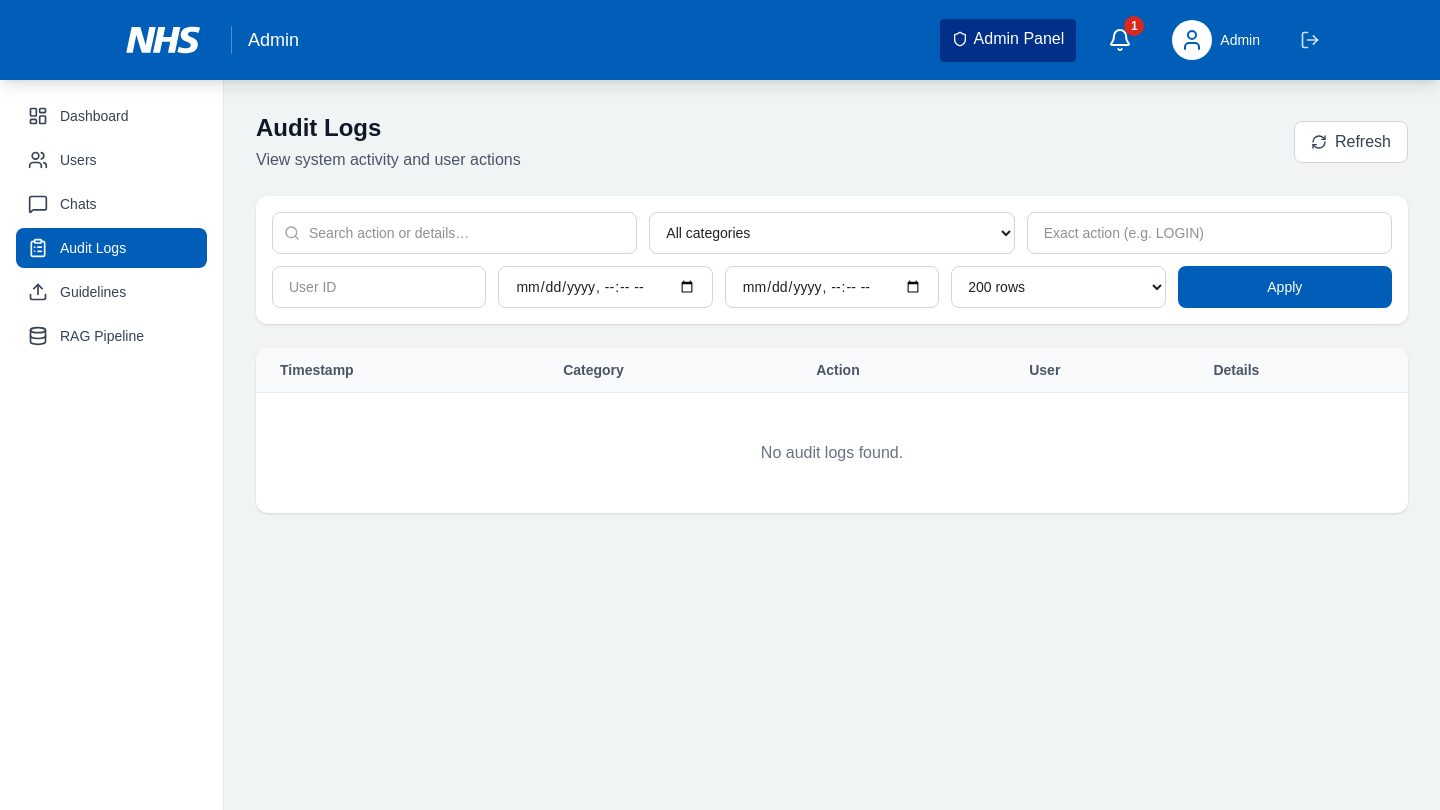
Scenario: AdminLogsPage › shows empty and error states
Check: the text "No audit logs found." is shown, box [256,392,1408,513]
Click the button "Refresh". click: (1351, 142)
box: [1294,121,1408,163]
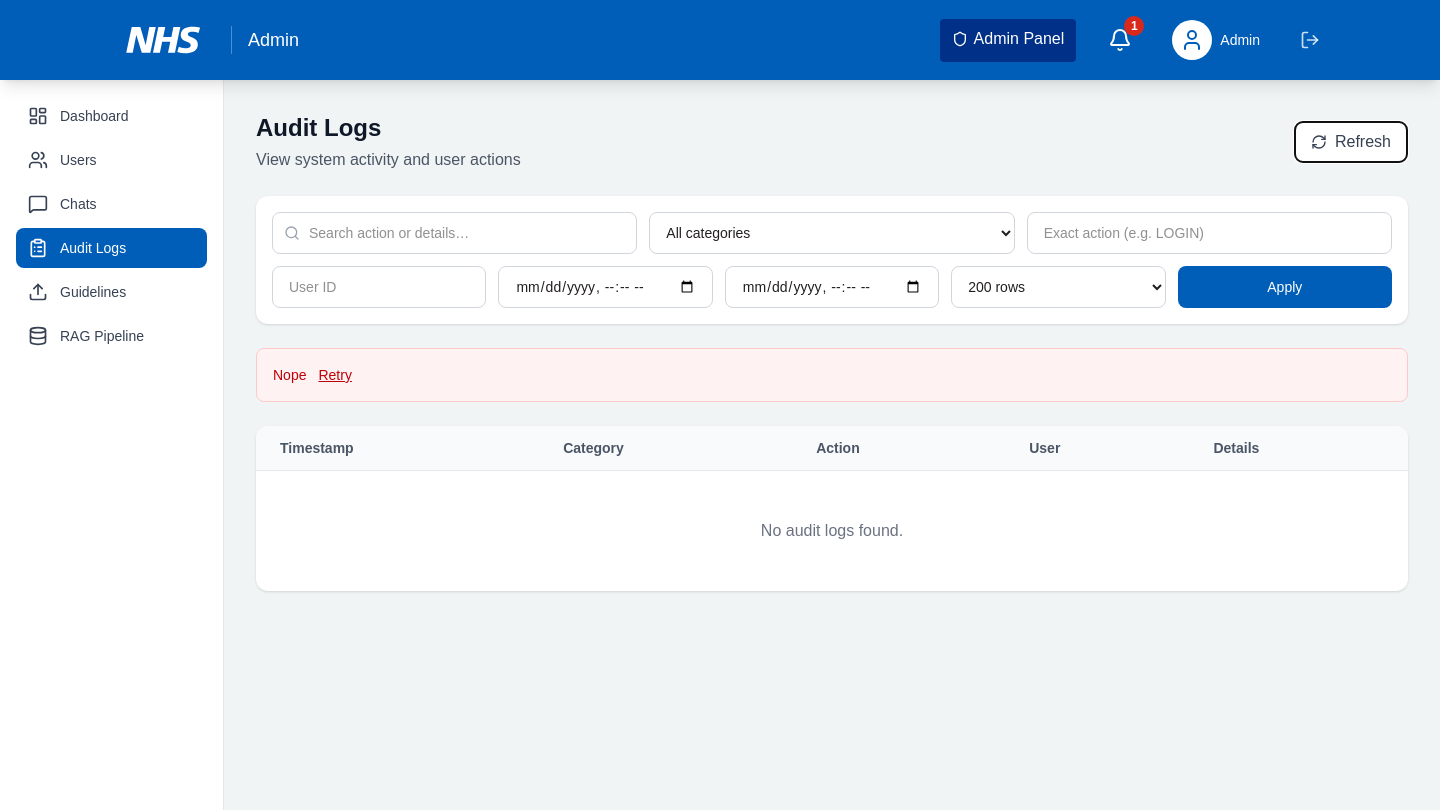
Check: the text "Nope Retry" is shown, box [256,348,1408,402]
